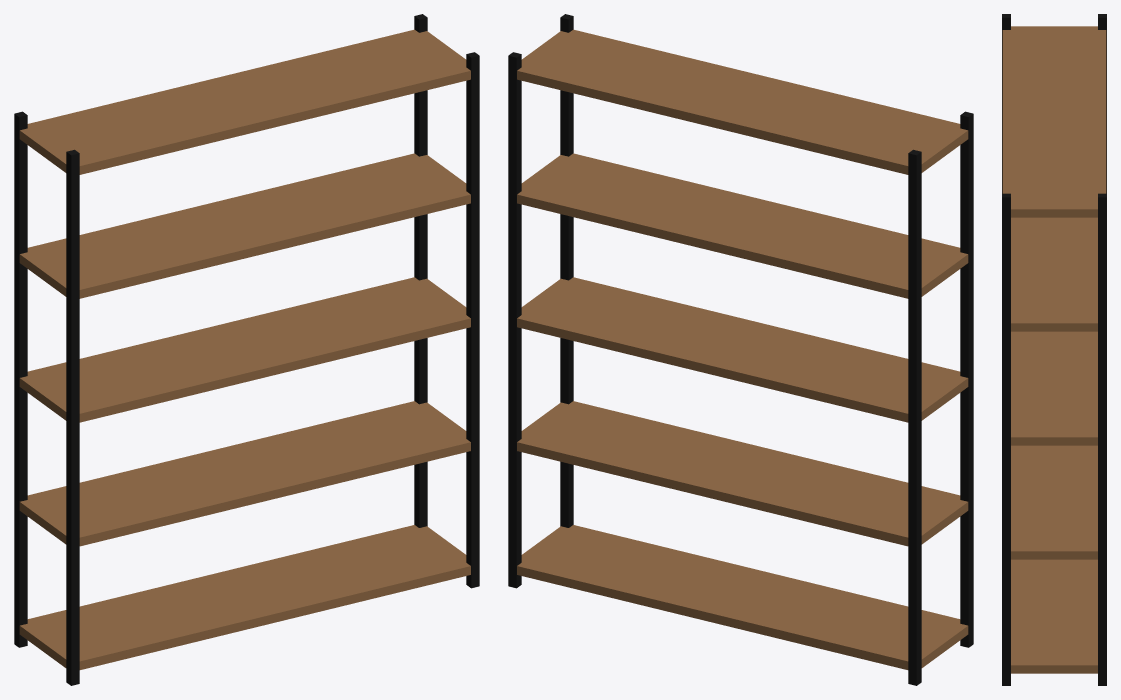
The model's file is divider_shelf.glb.
3 views of the same model, side by side, from view 1: azimuth 30°, elevation 25°; view 2: azimuth 150°, elevation 25°; view 3: azimuth 270°, elevation 25° (orthographic). The views are drawn at different scales.
Parts seen in each view (by area): view 1: Part8, Part7, Part5, Part6, Part4, Part2, Part3, Part0, Part1; view 2: Part8, Part7, Part5, Part6, Part4, Part0, Part1, Part2, Part3; view 3: Part8, Part4, Part5, Part6, Part7, Part1, Part3, Part0, Part2.
Boxes of the visible parts, x1,y1,x2,y2 form: Part8: [19, 29, 470, 174]; Part7: [19, 153, 470, 298]; Part5: [19, 401, 470, 546]; Part6: [19, 277, 470, 422]; Part4: [19, 525, 470, 669]; Part2: [66, 149, 79, 685]; Part3: [466, 52, 479, 588]; Part0: [14, 111, 27, 647]; Part1: [414, 14, 427, 527]; Part8: [517, 29, 968, 174]; Part7: [517, 153, 968, 298]; Part5: [517, 401, 968, 546]; Part6: [517, 277, 968, 422]; Part4: [517, 525, 968, 669]; Part0: [908, 149, 921, 685]; Part1: [508, 52, 521, 588]; Part2: [960, 111, 973, 647]; Part3: [560, 14, 573, 527]; Part8: [1002, 26, 1106, 217]; Part4: [1011, 559, 1097, 673]; Part5: [1011, 445, 1097, 559]; Part6: [1011, 331, 1097, 445]; Part7: [1011, 217, 1097, 331]; Part1: [1098, 193, 1106, 685]; Part3: [1002, 193, 1010, 685]; Part0: [1098, 14, 1106, 193]; Part2: [1002, 14, 1010, 193].
Size of the model in its own units: 1.45 by 1.8 by 0.35.
